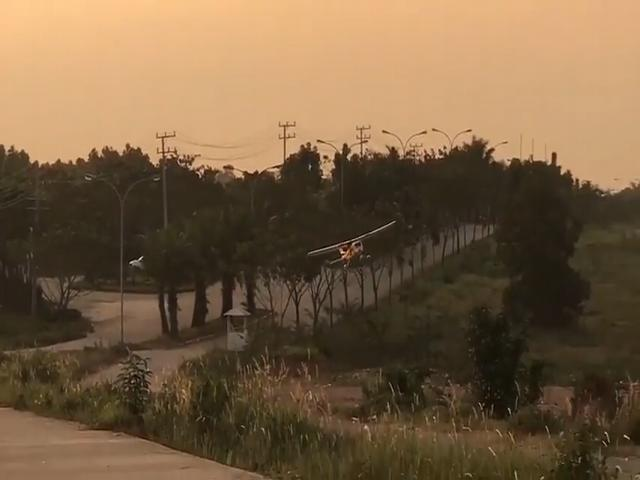plane: (308, 220, 400, 267)
